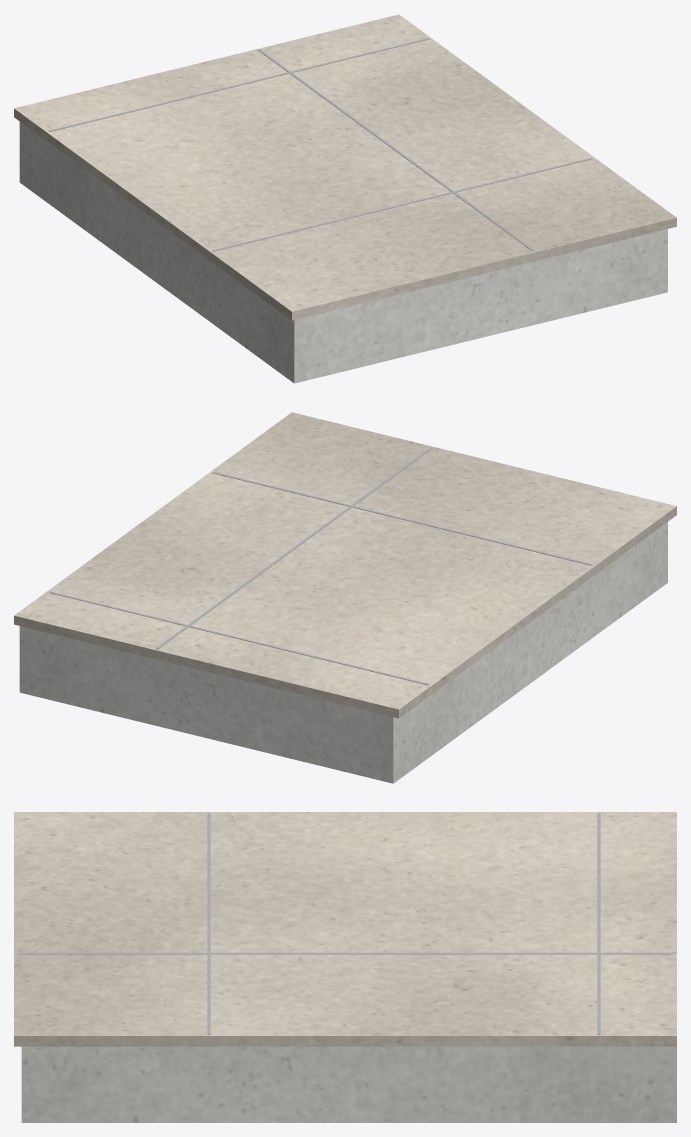
File: floor_terrazzo_u_e0_0_30_0.glb
3 views of the same model, one above another, from view 1: azimuth 30°, elevation 25°; view 2: azimuth 150°, elevation 25°; view 3: azimuth 270°, elevation 25° (orthographic). The views are drawn at different scales.
Parts seen in each view (by area): view 1: floor_terrazzo_u_e0_0_30_0_terrazzo, floor_terrazzo_u_e0_0_30_0_plaster, floor_terrazzo_u_e0_0_30_0_steel; view 2: floor_terrazzo_u_e0_0_30_0_terrazzo, floor_terrazzo_u_e0_0_30_0_plaster, floor_terrazzo_u_e0_0_30_0_steel; view 3: floor_terrazzo_u_e0_0_30_0_terrazzo, floor_terrazzo_u_e0_0_30_0_plaster, floor_terrazzo_u_e0_0_30_0_steel.
Part boxes in pixels (x1,y1,x2,y2): floor_terrazzo_u_e0_0_30_0_terrazzo: [14, 14, 676, 320]; floor_terrazzo_u_e0_0_30_0_plaster: [19, 122, 667, 383]; floor_terrazzo_u_e0_0_30_0_steel: [49, 38, 592, 251]; floor_terrazzo_u_e0_0_30_0_terrazzo: [14, 412, 676, 718]; floor_terrazzo_u_e0_0_30_0_plaster: [19, 522, 667, 783]; floor_terrazzo_u_e0_0_30_0_steel: [49, 447, 592, 685]; floor_terrazzo_u_e0_0_30_0_terrazzo: [14, 812, 676, 1046]; floor_terrazzo_u_e0_0_30_0_plaster: [21, 1046, 676, 1122]; floor_terrazzo_u_e0_0_30_0_steel: [18, 813, 672, 1034].
Bounding box in the file's own units: 1.36 × 0.2565 × 1.7.
3 materials, 2 textured.
